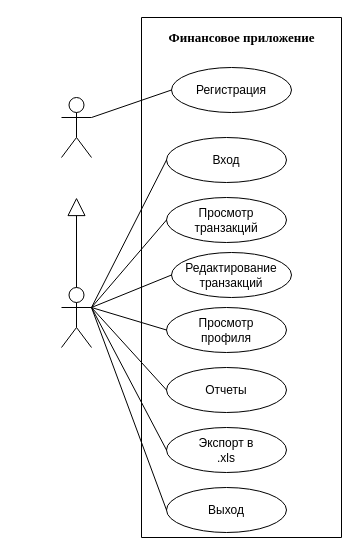
The diagram is 359 pixels wide and 555 high, and some of its shapes have lost their labels. The centre of each missing label's shape, as x and y in pixels:
"Зарегистрированный пользователь" goes at [76,317].
"Пользователь приложения" goes at [76,127].
